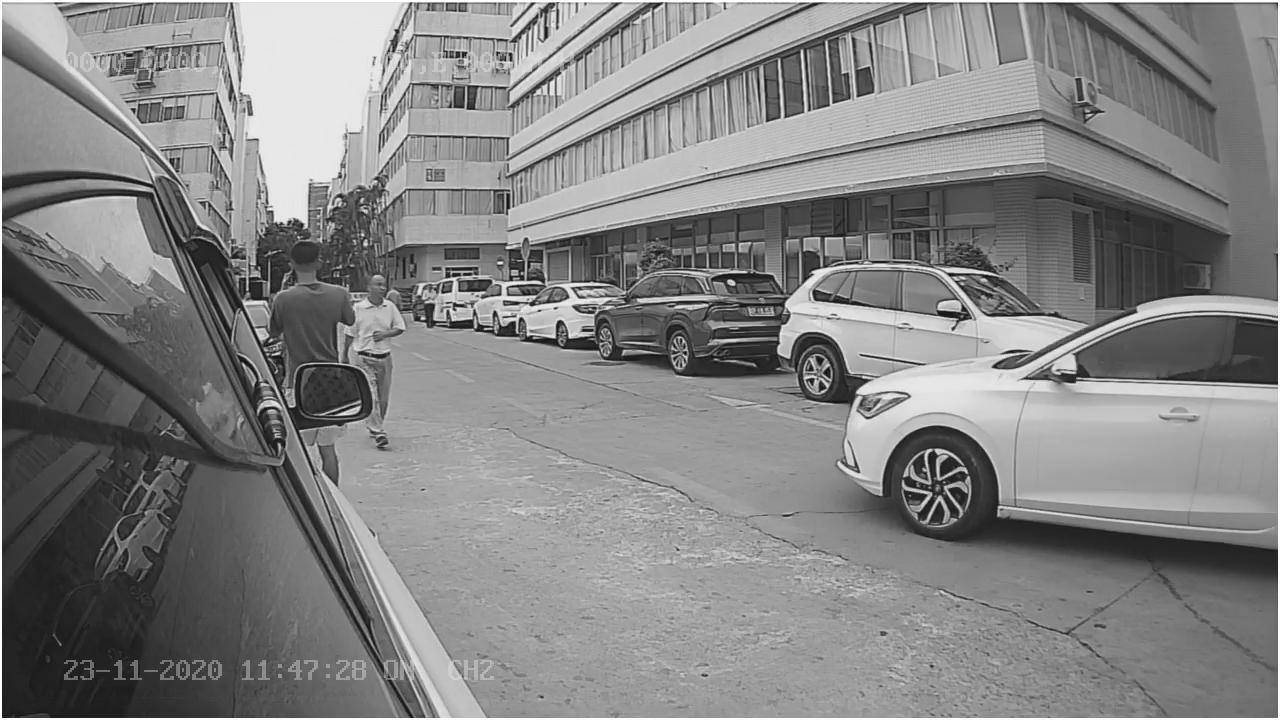person: (261, 229, 356, 360)
